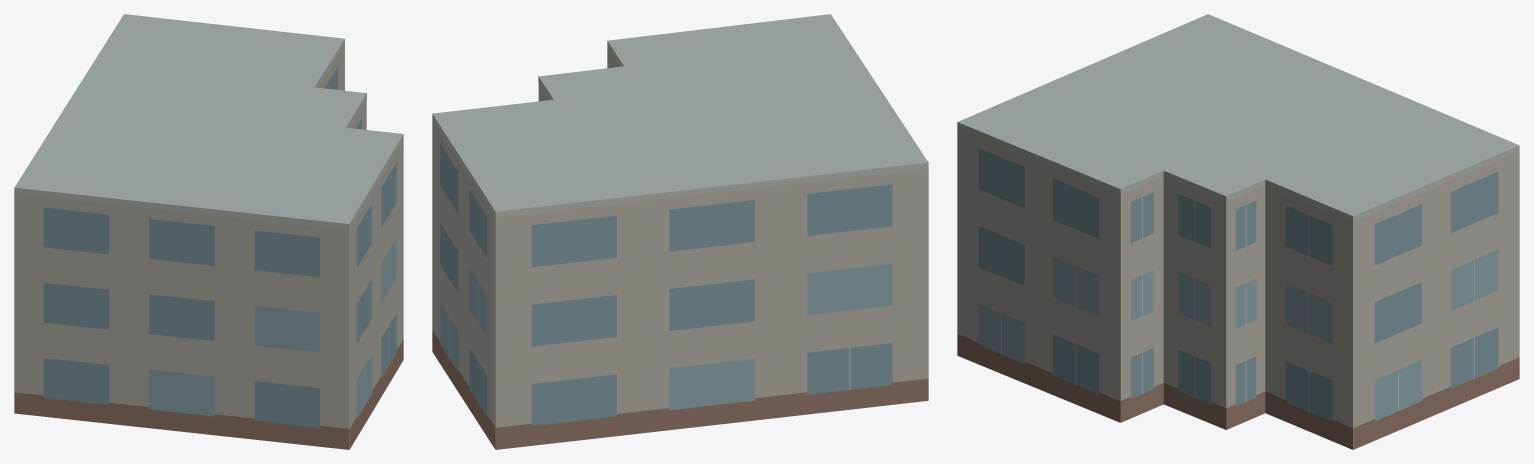
Rendered from survey-upis-32770316.glb.
3 renders of one model, left to right at view 1: azimuth 30°, elevation 25°; view 2: azimuth 150°, elevation 25°; view 3: azimuth 270°, elevation 25°, orthographic. The views are drawn at different scales.
Visible parts, largest first — view 1: survey-upis-32770316.tmp; view 2: survey-upis-32770316.tmp; view 3: survey-upis-32770316.tmp.
Boxes of the visible parts, <box> form: survey-upis-32770316.tmp: <box>14,14,403,449</box>; survey-upis-32770316.tmp: <box>432,14,928,449</box>; survey-upis-32770316.tmp: <box>957,14,1519,449</box>.
Bounding box in the file's own units: 16.9 × 9.1 × 19.85.
